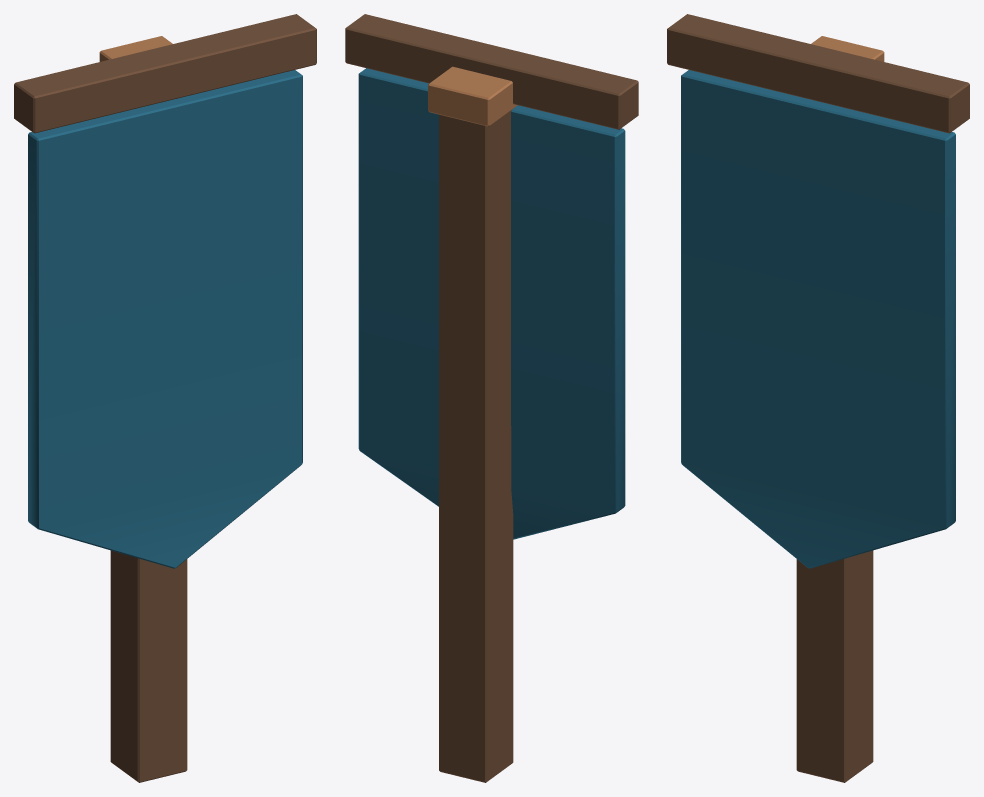
File: banner_large_01.glb
3 renders of one model, left to right at view 1: azimuth 30°, elevation 25°; view 2: azimuth 150°, elevation 25°; view 3: azimuth 330°, elevation 25°, orthographic. The views are drawn at different scales.
Parts seen in each view (by area): view 1: banner_large_01; view 2: banner_large_01; view 3: banner_large_01.
Boxes of the visible parts, x1,y1,x2,y2 form: banner_large_01: (14, 14, 316, 782); banner_large_01: (345, 14, 638, 782); banner_large_01: (667, 14, 969, 782).
Bounding box in the file's own units: 0.8 × 1.95 × 0.22.
